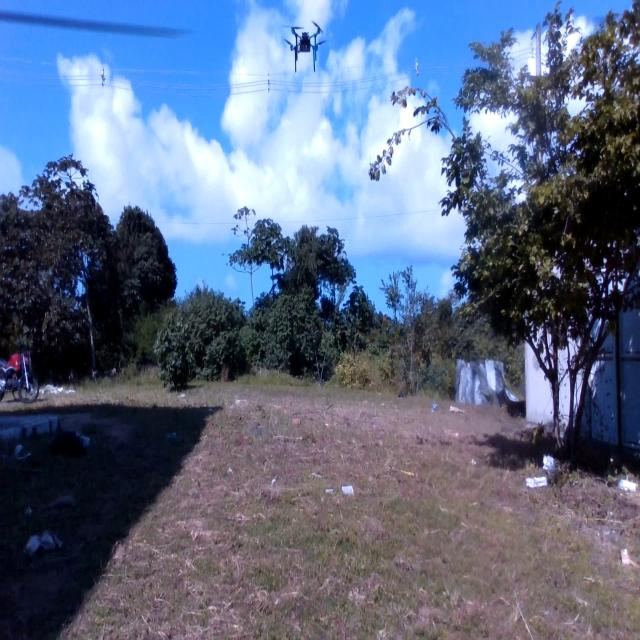-uav-: (278, 12, 332, 77)
